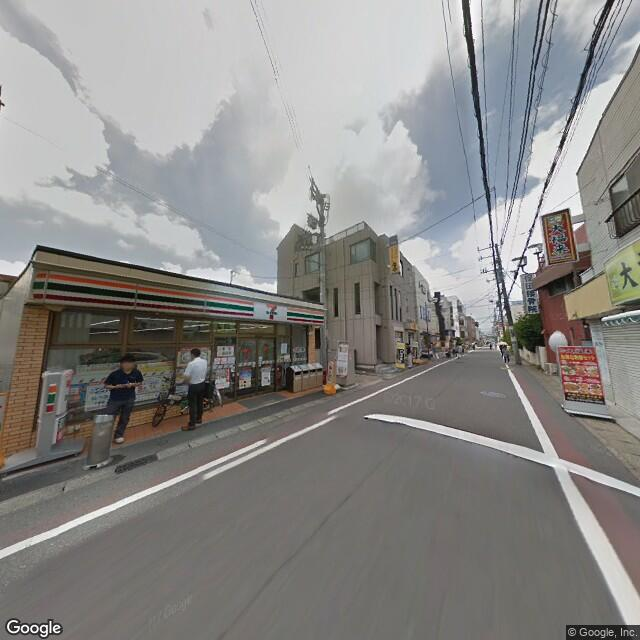7-eleven: (24, 265, 324, 327)
